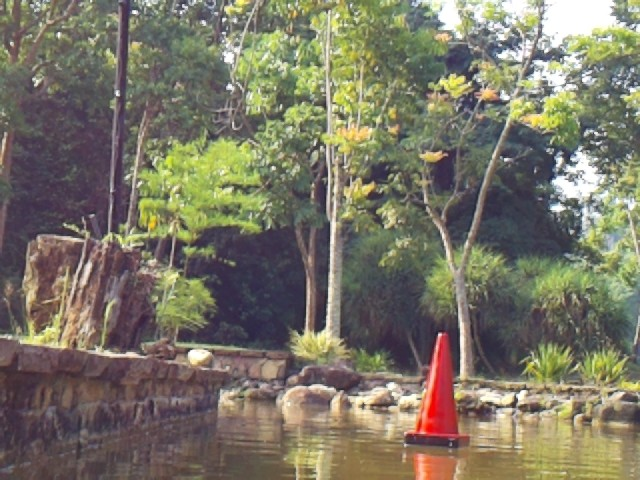obstacle: (403, 332, 471, 448)
